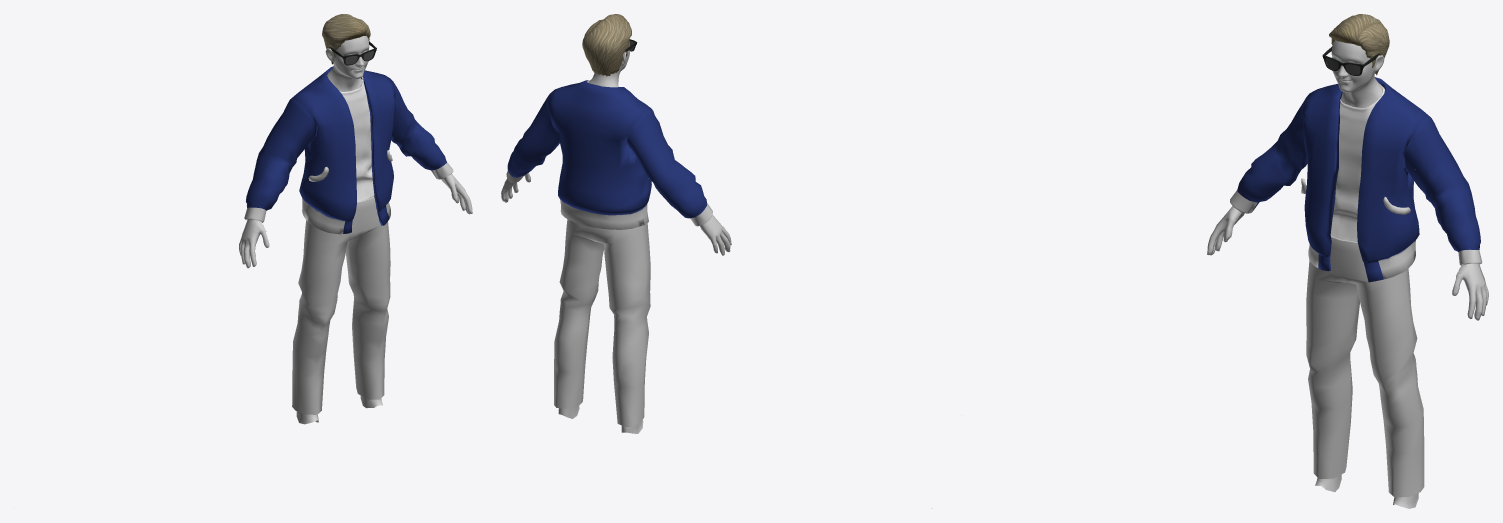
Rendered from man2.fbx.
The picture shows the model from 3 angles, left to right: view 1: azimuth 30°, elevation 25°; view 2: azimuth 150°, elevation 25°; view 3: azimuth 330°, elevation 25°; orthographic projection. The views are drawn at different scales.
Visible parts, largest first — view 1: Wolf3D_Outfit_Bottom.001, Wolf3D_Outfit_Top, Wolf3D_Outfit_Top.011, Ch12.003, Wolf3D_Head.001, Wolf3D_Body.001, Wolf3D_Outfit_Top.012, Hair.001; view 2: Wolf3D_Outfit_Bottom.001, Wolf3D_Outfit_Top, Wolf3D_Outfit_Top.011, Hair.001, Wolf3D_Outfit_Top.012, Wolf3D_Body.001, Wolf3D_Head.001; view 3: Wolf3D_Outfit_Bottom.001, Wolf3D_Outfit_Top, Wolf3D_Outfit_Top.011, Ch12.003, Wolf3D_Head.001, Wolf3D_Body.001, Hair.001, Wolf3D_Outfit_Top.012.
Part boxes in pixels (bbox=[...]): Wolf3D_Outfit_Bottom.001: bbox=[292, 196, 390, 424]; Wolf3D_Outfit_Top: bbox=[292, 66, 395, 233]; Wolf3D_Outfit_Top.011: bbox=[246, 79, 446, 210]; Ch12.003: bbox=[327, 75, 374, 201]; Wolf3D_Head.001: bbox=[325, 36, 369, 91]; Wolf3D_Body.001: bbox=[239, 174, 472, 268]; Wolf3D_Outfit_Top.012: bbox=[244, 162, 453, 234]; Hair.001: bbox=[322, 14, 370, 64]; Wolf3D_Outfit_Bottom.001: bbox=[554, 219, 650, 433]; Wolf3D_Outfit_Top: bbox=[548, 80, 651, 215]; Wolf3D_Outfit_Top.011: bbox=[507, 94, 706, 218]; Hair.001: bbox=[582, 14, 631, 76]; Wolf3D_Outfit_Top.012: bbox=[506, 170, 712, 229]; Wolf3D_Body.001: bbox=[501, 173, 731, 255]; Wolf3D_Head.001: bbox=[588, 42, 629, 87]; Wolf3D_Outfit_Bottom.001: bbox=[1306, 235, 1424, 508]; Wolf3D_Outfit_Top: bbox=[1302, 77, 1428, 282]; Wolf3D_Outfit_Top.011: bbox=[1237, 94, 1480, 251]; Ch12.003: bbox=[1330, 87, 1415, 241]; Wolf3D_Head.001: bbox=[1331, 40, 1384, 107]; Wolf3D_Body.001: bbox=[1207, 206, 1488, 320]; Hair.001: bbox=[1329, 14, 1389, 75]; Wolf3D_Outfit_Top.012: bbox=[1230, 190, 1482, 279].
Size of the model in its own units: 3678 by 3272 by 613.
